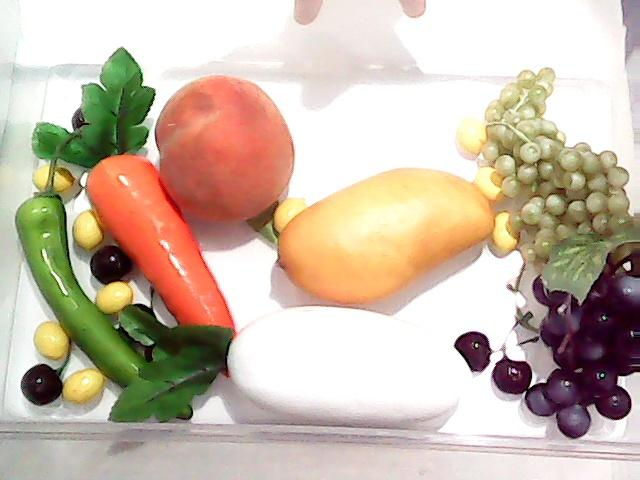carrot: (32, 45, 236, 383)
grape: (484, 64, 632, 280), (524, 248, 640, 438)
mango: (270, 166, 498, 306)
peach: (156, 76, 296, 228)
pepper: (11, 166, 192, 418)
radish: (111, 304, 473, 434)
